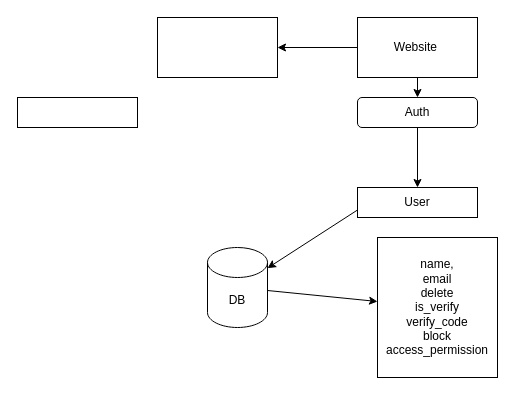
This 515x395 diagram has some shape labels left out. The shapes that lost their labels are listed below. From the top down, each one's centre as x and y in pixels, then its label:
the point at 217,47: Static Todan
the point at 77,112: Public
